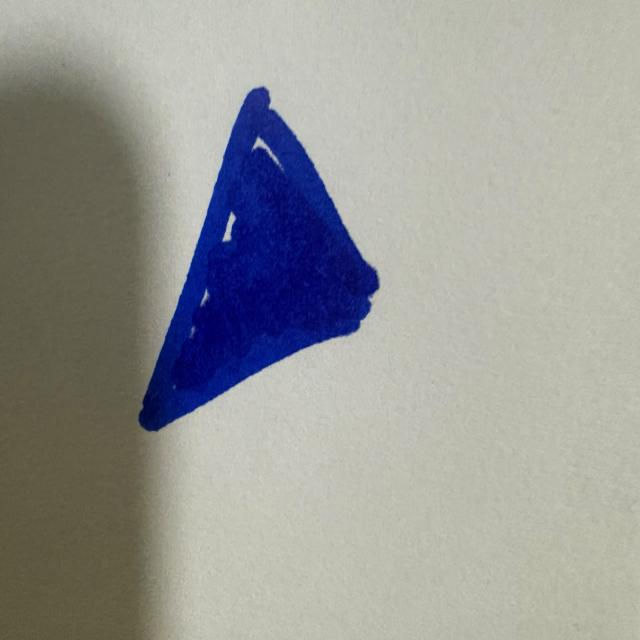Triangle: (139, 88, 379, 430)
